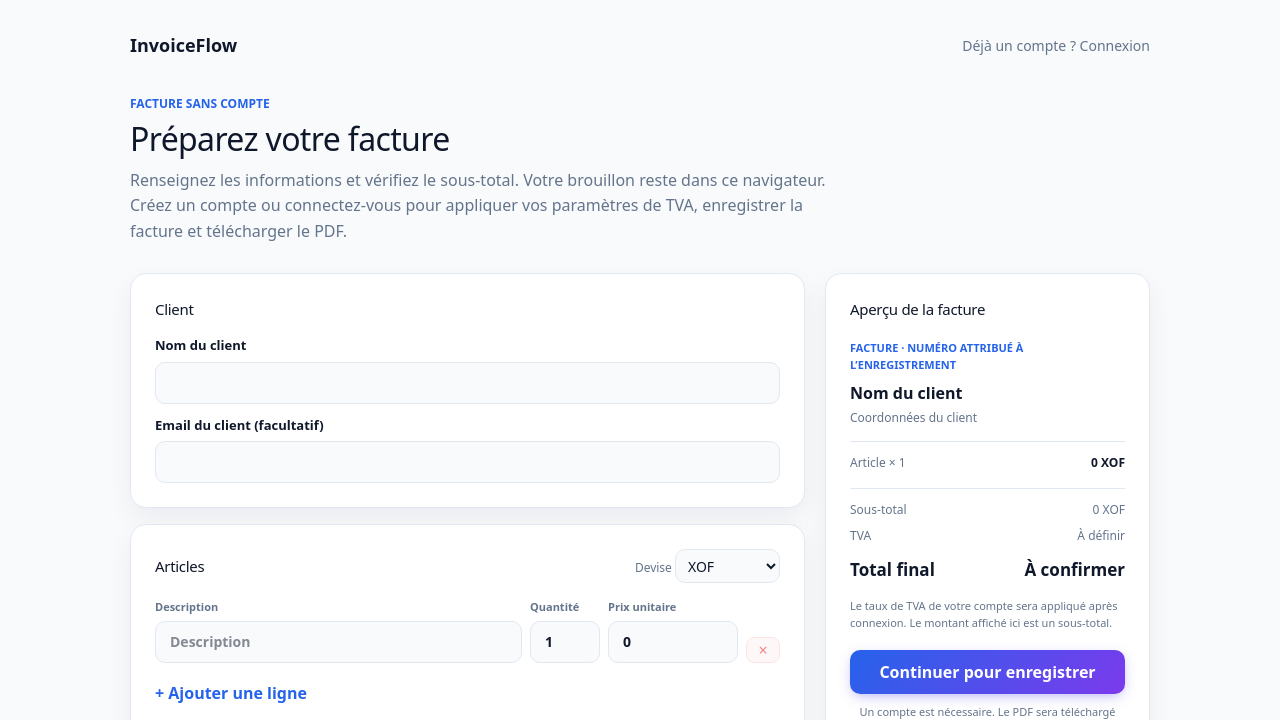
it: GuestInvoicePage › surfaces a friendly error instead of failing silently when the account check throws
Type "Client Exemple" into the field labelled "Nom du client".
click(468, 383); type("Client Exemple")  # box x1=155 y1=362 x2=780 y2=404
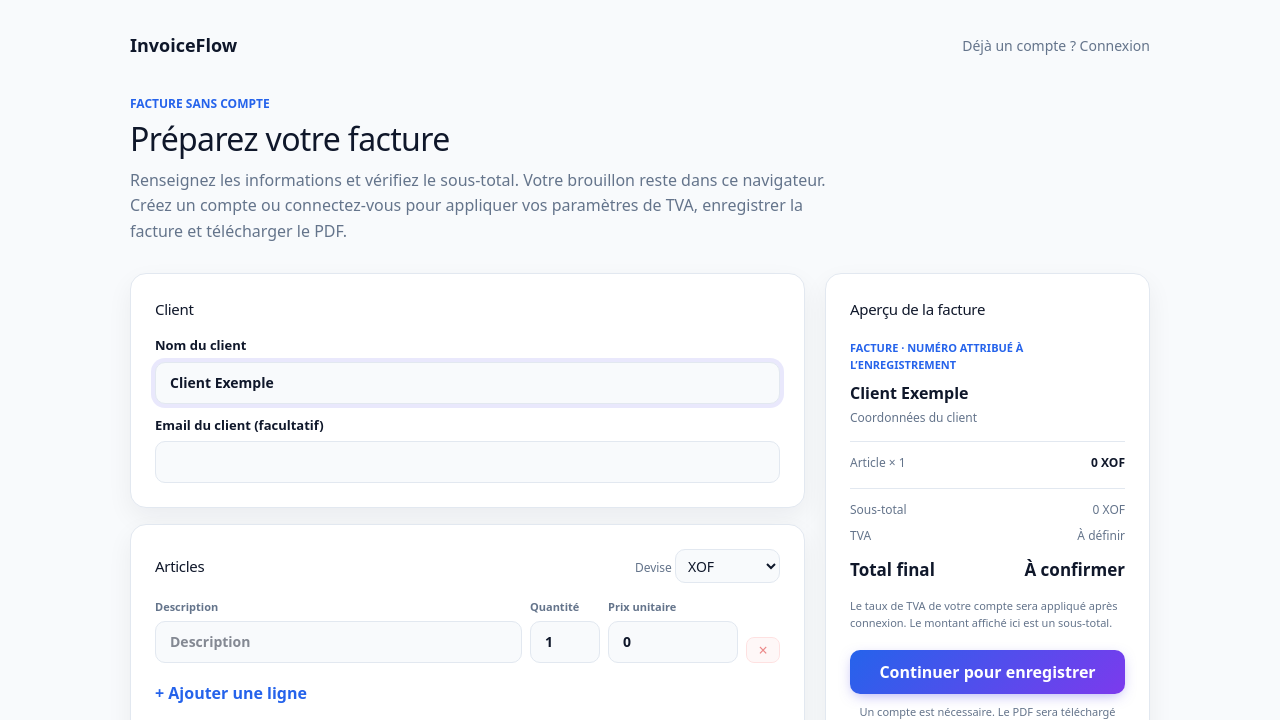
Type "Conseil" into the field named "Description article 1".
click(338, 642); type("Conseil")  # box x1=155 y1=621 x2=522 y2=663
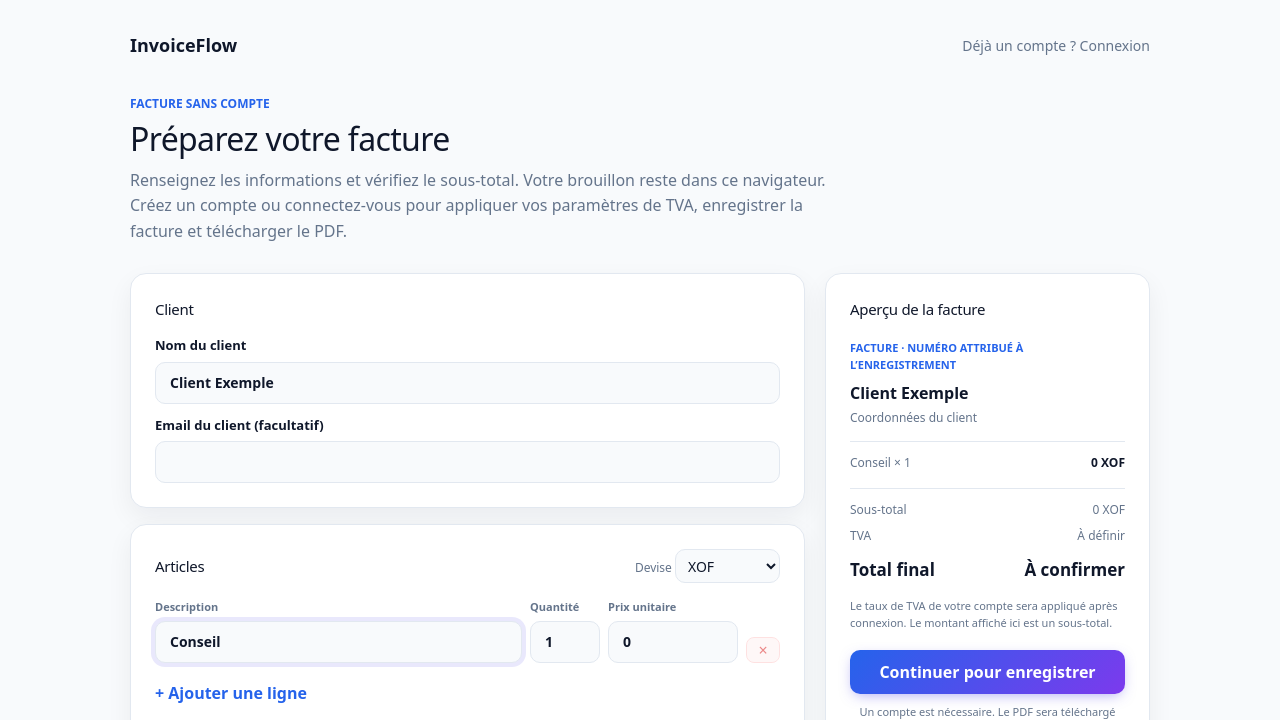
Replace the text in the number field named "Prix article 1" with "10000" at (673, 642), box x1=608 y1=621 x2=738 y2=663
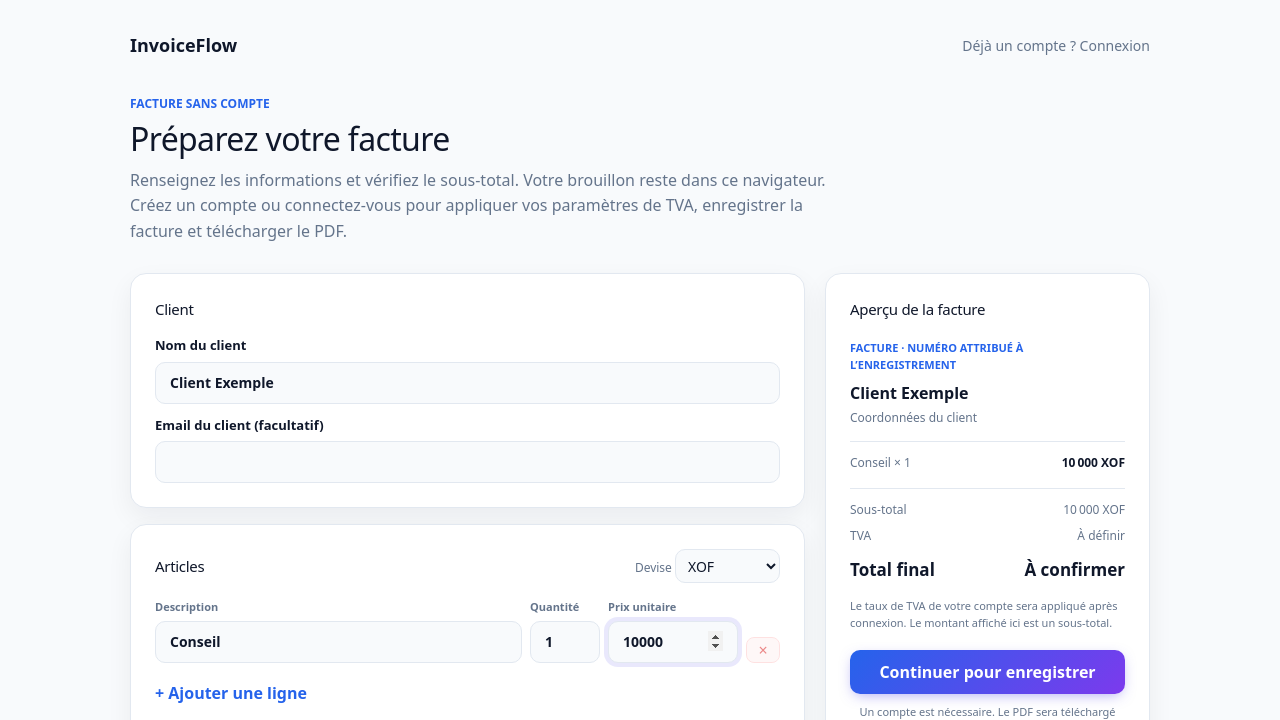
Click the button "Continuer pour enregistrer".
click(988, 672)  # box x1=850 y1=650 x2=1125 y2=694
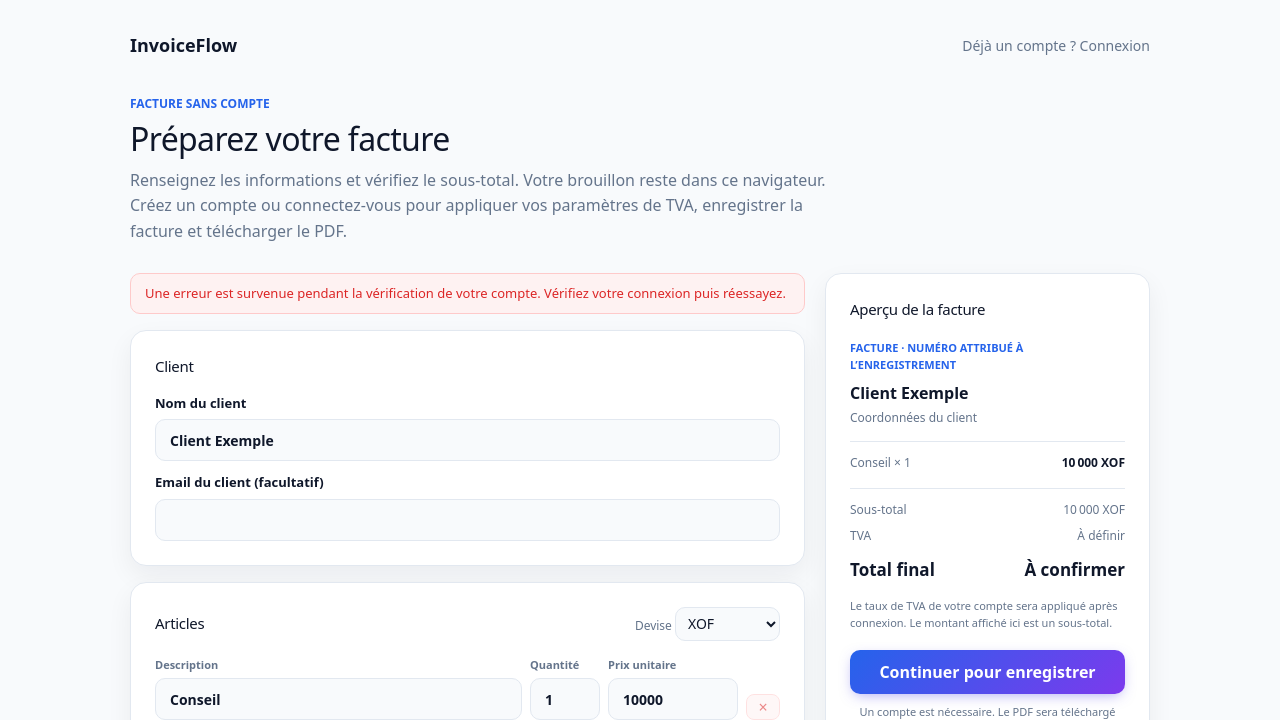
expect the message shows "Vérifiez votre connexion puis réessayez.": met, box x1=145 y1=284 x2=786 y2=302
